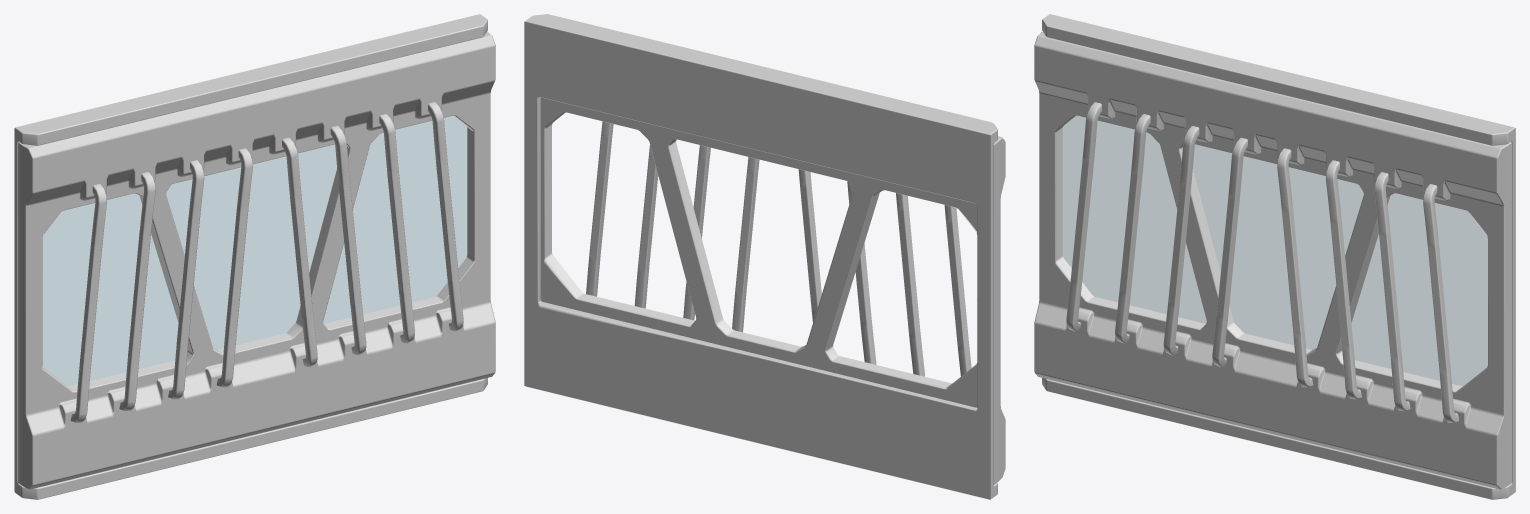
Rendered from WindowBarsA4x3.glb.
The picture shows the model from 3 angles, left to right: view 1: azimuth 30°, elevation 25°; view 2: azimuth 150°, elevation 25°; view 3: azimuth 330°, elevation 25°; orthographic projection.
Parts seen in each view (by area): view 1: WindowBarsA4x3; view 2: WindowBarsA4x3; view 3: WindowBarsA4x3.
Boxes of the visible parts, x1,y1,x2,y2 form: WindowBarsA4x3: [14, 14, 495, 499]; WindowBarsA4x3: [524, 14, 1005, 499]; WindowBarsA4x3: [1034, 14, 1515, 499].
Size of what is drawn, in the model's own units: 4 by 3 by 0.3692.
